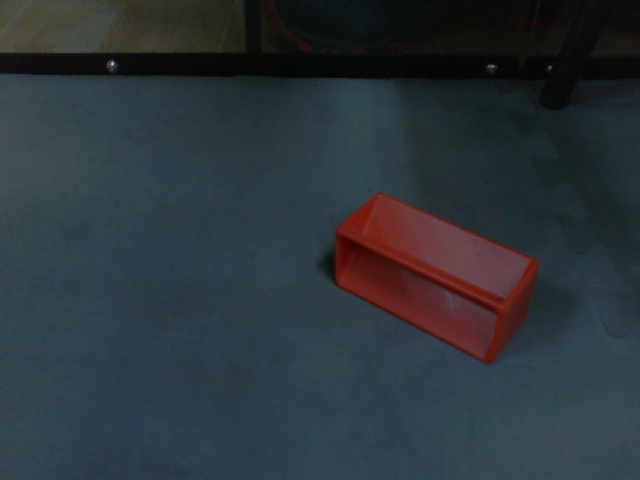RedSample: (331, 188, 542, 364)
